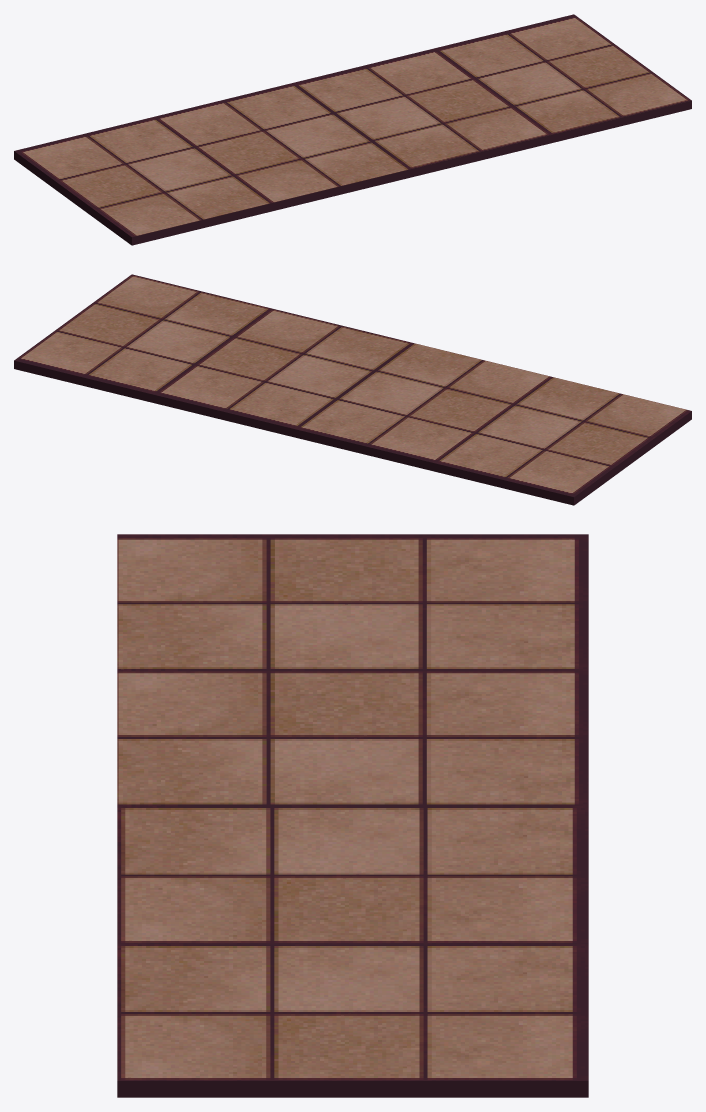
The model's file is GridFloorPanel.obj.
3 renders of one model, top to bottom at view 1: azimuth 30°, elevation 25°; view 2: azimuth 150°, elevation 25°; view 3: azimuth 270°, elevation 25°, orthographic. The views are drawn at different scales.
Visible parts, largest first — view 1: Cube.037; view 2: Cube.037; view 3: Cube.037.
Part boxes in pixels (x1,y1,x2,y2): Cube.037: [14, 14, 691, 245]; Cube.037: [14, 274, 691, 505]; Cube.037: [117, 534, 588, 1097].
Size of the model in its own units: 11.83 by 0.1698 by 4.31.
